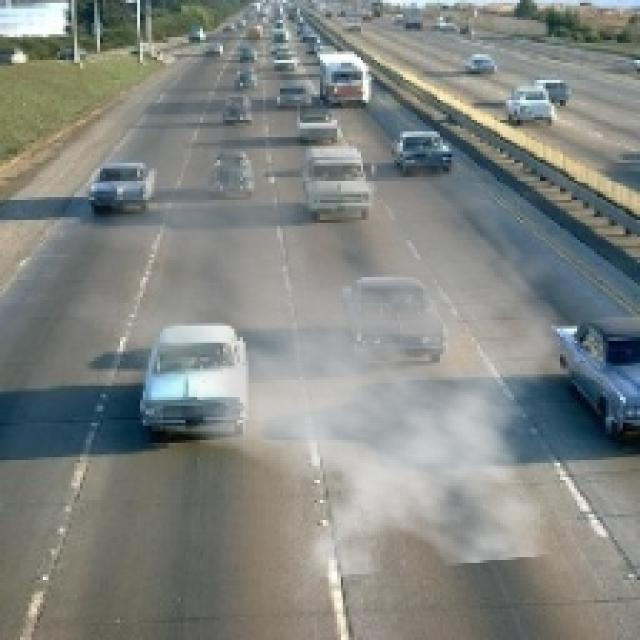Smoke: (29, 43, 592, 580)
